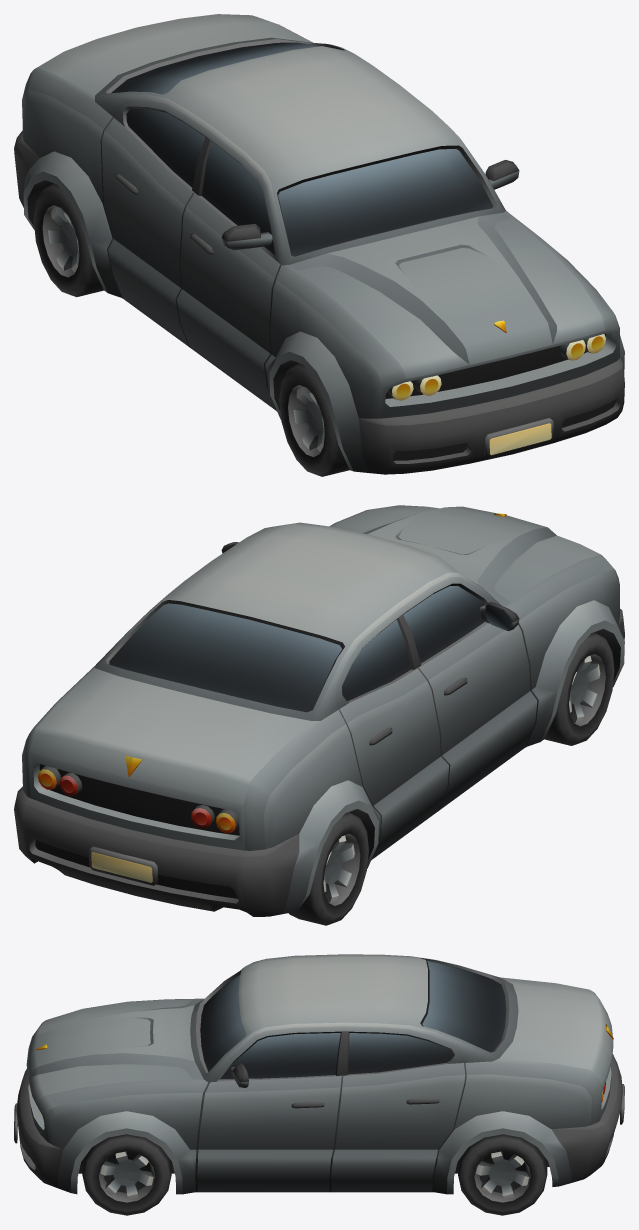
Rendered from Car_6F.fbx.
The picture shows the model from 3 angles, top to bottom: view 1: azimuth 30°, elevation 25°; view 2: azimuth 150°, elevation 25°; view 3: azimuth 270°, elevation 25°; orthographic projection. The views are drawn at different scales.
Visible parts, largest first — view 1: Car_6F, Wheel_6F_F.R, Wheel_6F_R.R; view 2: Car_6F, Wheel_6F_R.R, Wheel_6F_F.R; view 3: Car_6F, Wheel_6F_F.L, Wheel_6F_R.L.
Part boxes in pixels (x1,y1,x2,y2): Car_6F: [14, 14, 624, 474]; Wheel_6F_F.R: [279, 363, 349, 476]; Wheel_6F_R.R: [33, 183, 103, 297]; Car_6F: [14, 505, 624, 916]; Wheel_6F_R.R: [288, 812, 368, 925]; Wheel_6F_F.R: [544, 632, 614, 745]; Car_6F: [14, 954, 624, 1194]; Wheel_6F_F.L: [82, 1134, 171, 1215]; Wheel_6F_R.L: [458, 1134, 547, 1215].
Bounding box in the file's own units: 2.46 × 1.93 × 5.8.
